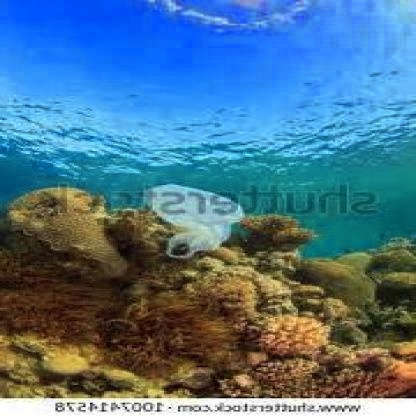pbag: (134, 176, 252, 259)
